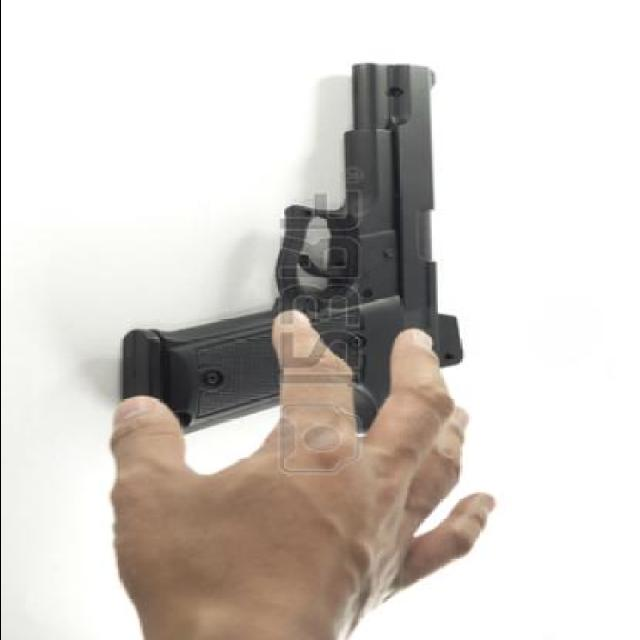pistol: (119, 63, 467, 455)
